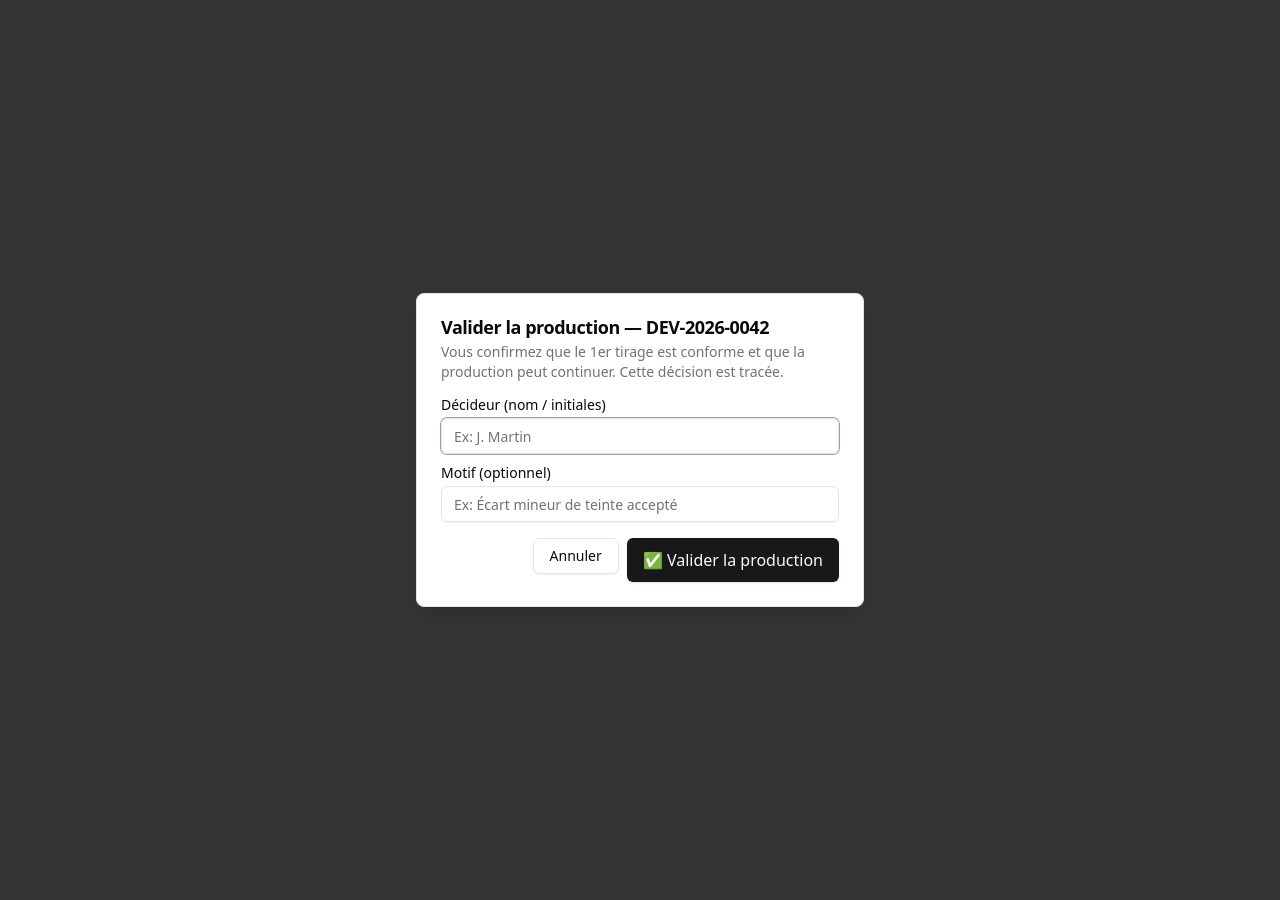
Scenario: DialogValiderProduction — Lot E › submit sans décideur : erreur 'obligatoire', pas d'appel API
Click the button "✅ Valider la production" at [733, 560], box [627,538,839,582]
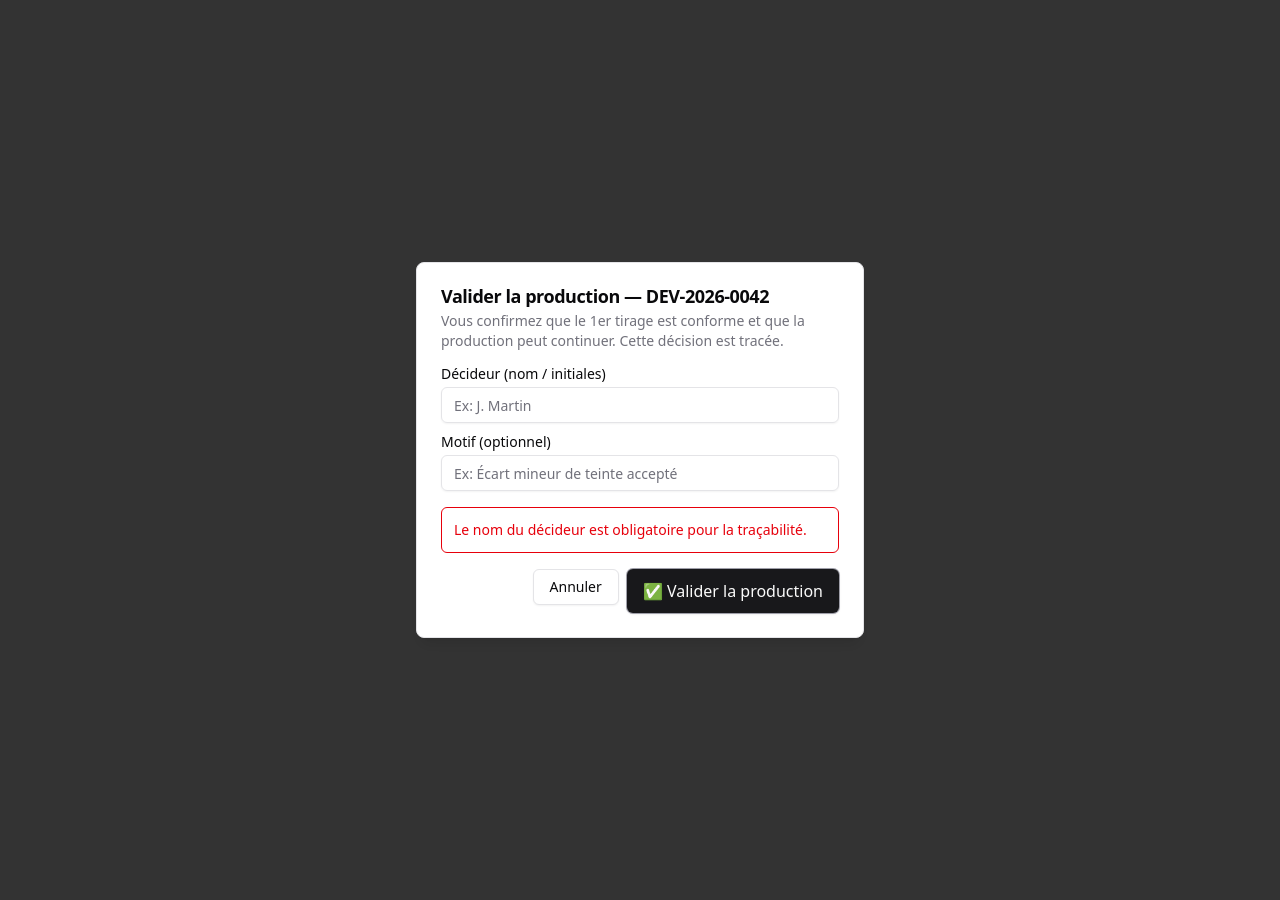
expect the message shows "obligatoire": met, box [454,520,807,539]
